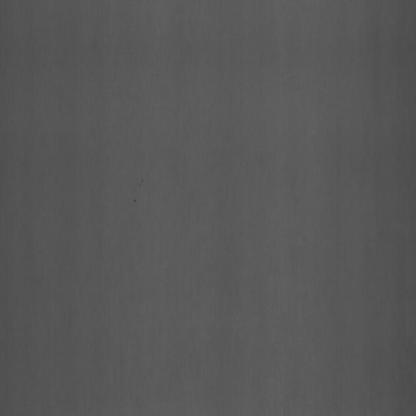inclusion: (125, 172, 147, 212)
